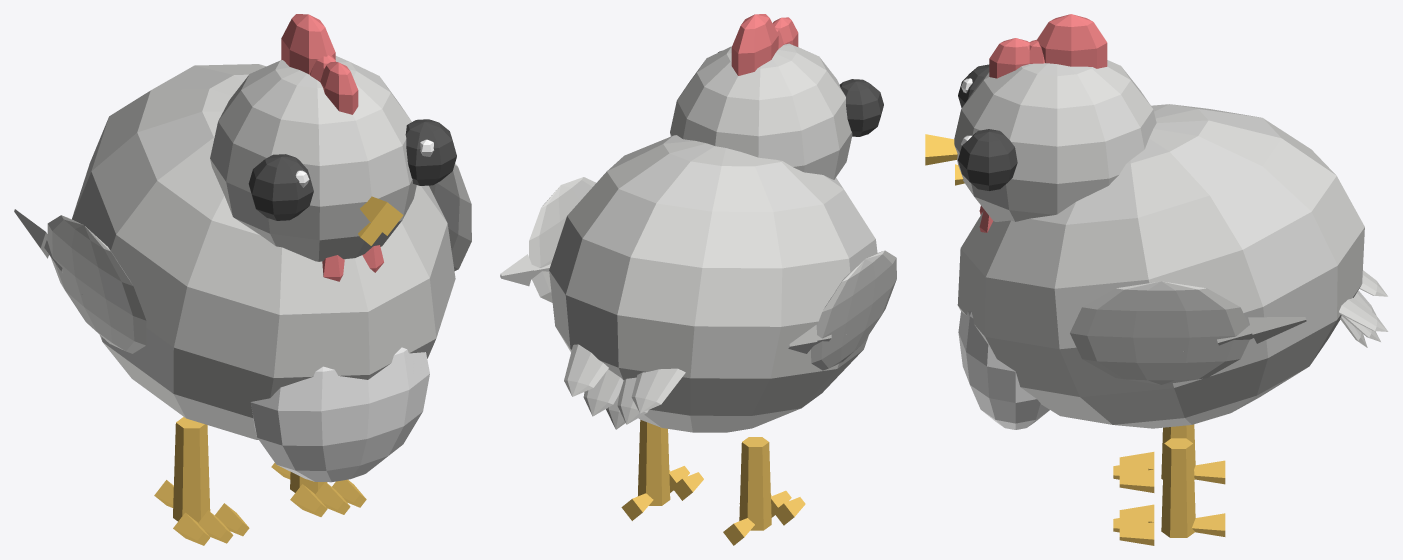
Rendered from chicken.glb.
3 views of the same model, side by side, from view 1: azimuth 30°, elevation 25°; view 2: azimuth 150°, elevation 25°; view 3: azimuth 270°, elevation 25° (orthographic). The views are drawn at different scales.
Parts seen in each view (by area): view 1: body, head, chest, wingR, legR, wingL, legL; view 2: body, head, wingR, tail, legR, wingL, legL; view 3: body, head, wingL, legL, chest, legR, tail.
Part boxes in pixels (x1,y1,x2,y2): body: (72, 64, 455, 439); head: (210, 14, 456, 281); chest: (250, 347, 429, 482); wingR: (14, 209, 146, 353); legR: (154, 417, 249, 545); wingL: (429, 163, 471, 270); legL: (271, 462, 366, 516); body: (549, 135, 877, 432); head: (670, 14, 883, 179); wingR: (788, 250, 896, 370); tail: (564, 344, 685, 429); legR: (723, 437, 805, 545); wingL: (500, 177, 596, 302); legL: (621, 420, 703, 520); body: (957, 104, 1364, 428); head: (925, 14, 1156, 232); wingL: (1070, 281, 1306, 384); legL: (1113, 438, 1225, 545); chest: (958, 311, 1049, 429); legR: (1113, 424, 1225, 492); tail: (1339, 270, 1388, 347).
Bounding box in the file's own units: 1.09 × 1.58 × 1.33.
